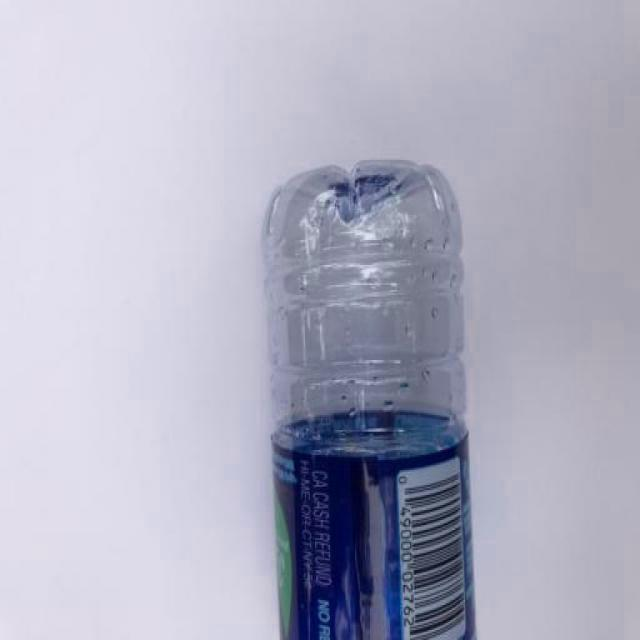bottle: (261, 159, 478, 640)
